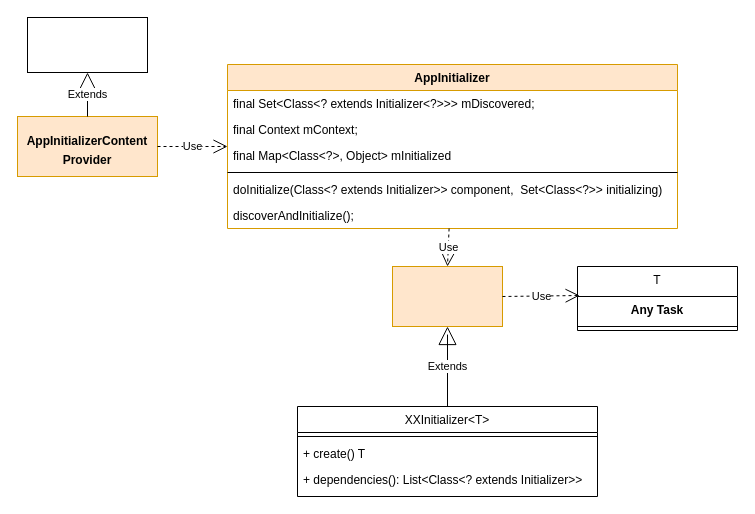
Image size: 755x514. Some labels were removed from this diagram. Here are the shapes that lost their labels. From the top down, the box of each, then its label:
(26, 16, 148, 72): ContenProvider
(392, 266, 502, 326): «interface» Initializer<T>
